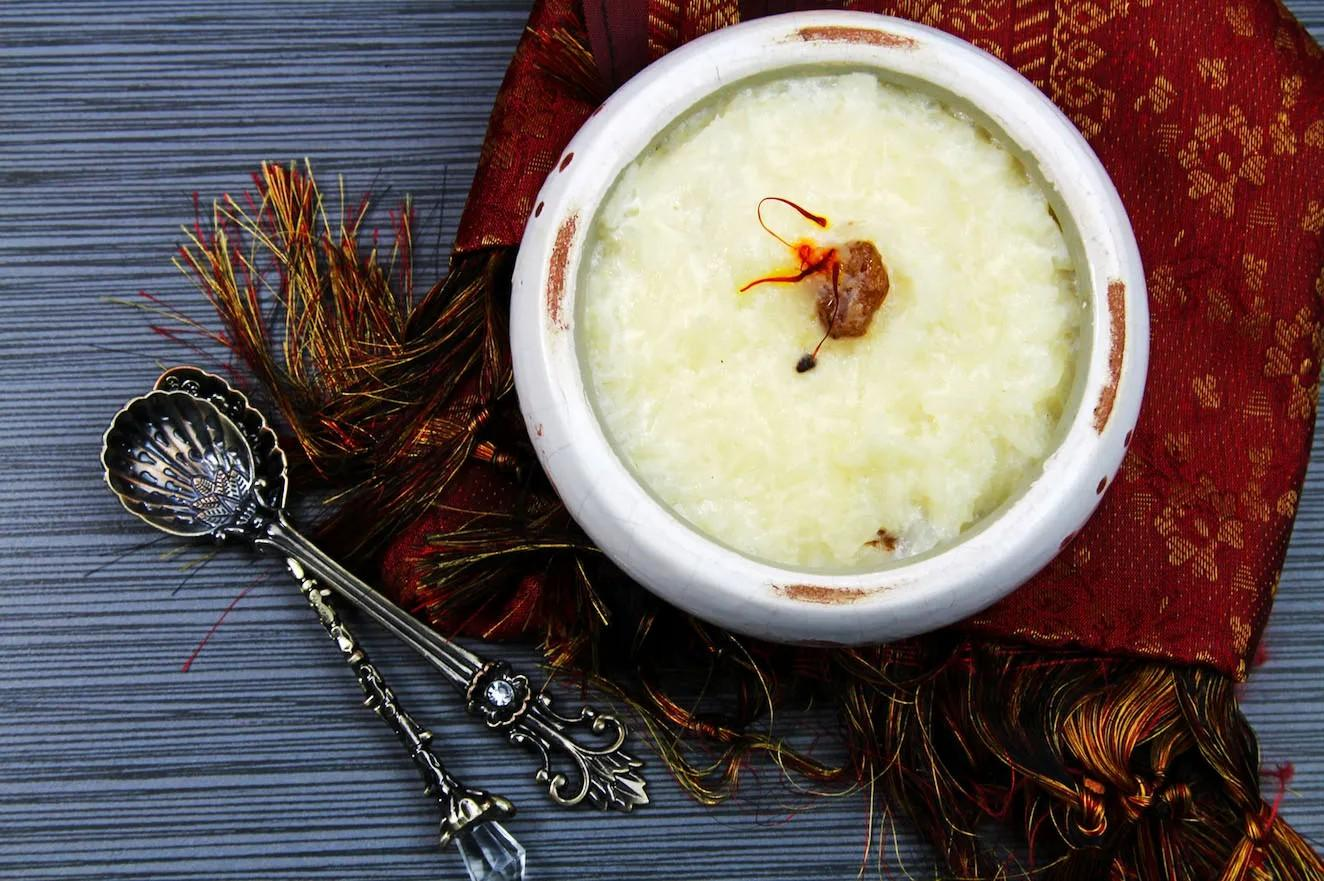Kheer: (589, 69, 1082, 569)
